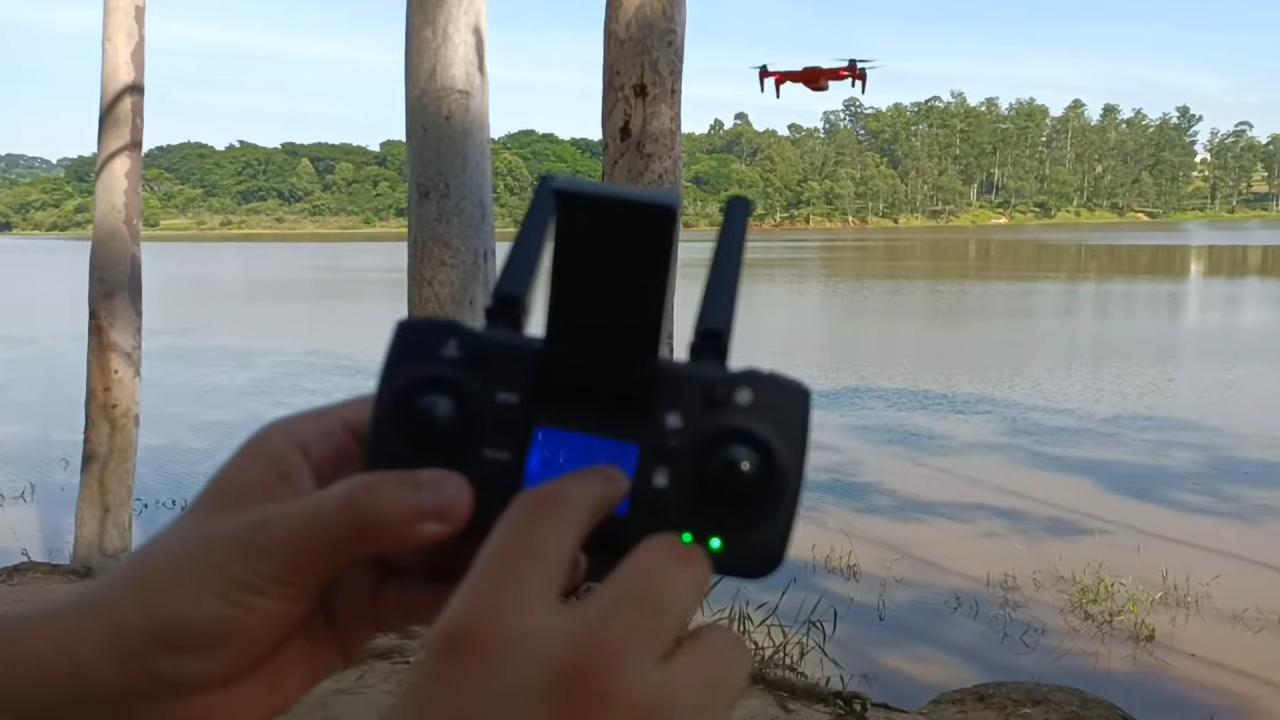Drone: (740, 42, 894, 106)
